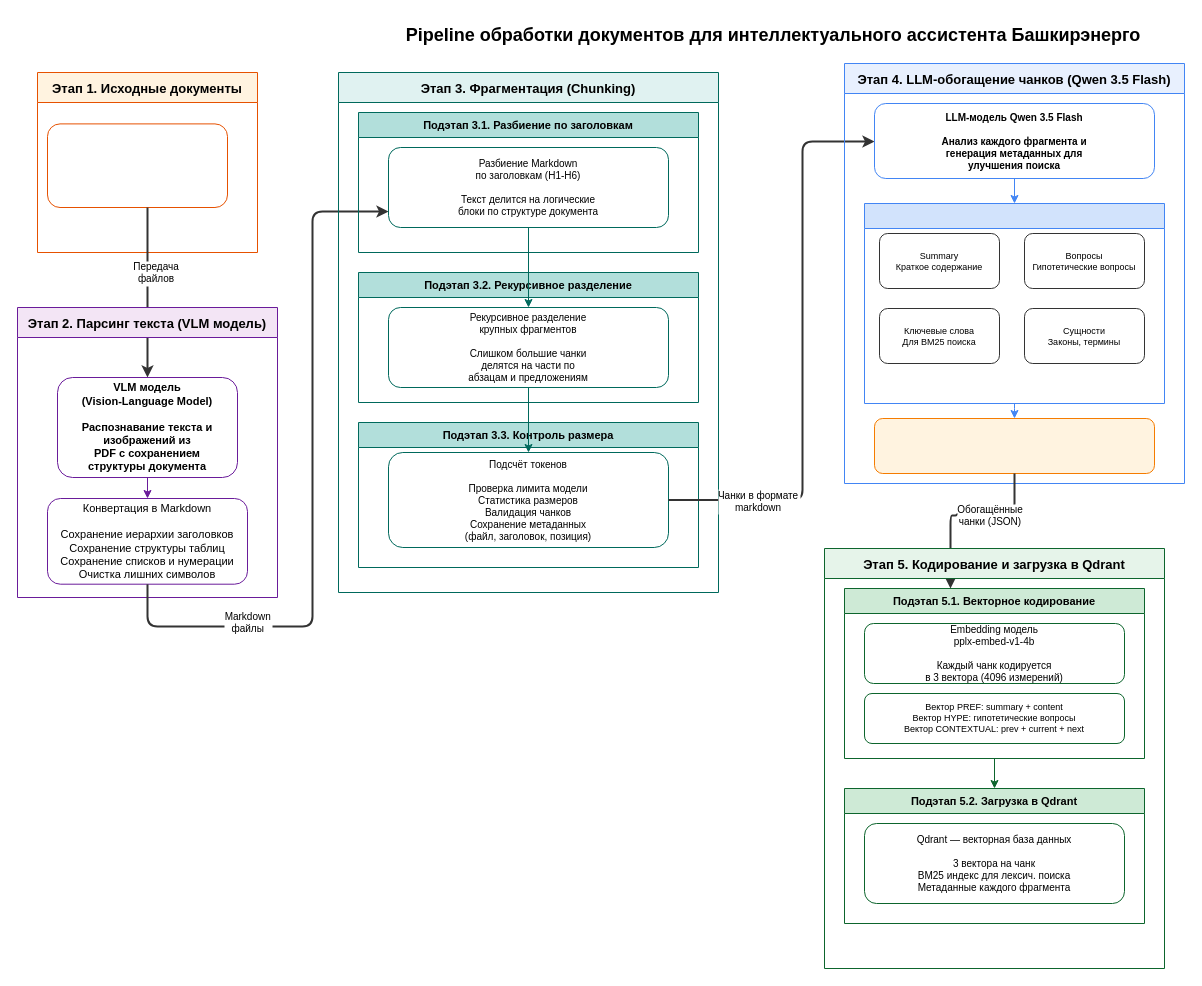
This 1202x986 diagram has some shape labels left out. The shapes that lost their labels are listed below. From the top down, each one's centre as x and y in pixels, then its label:
At point 137,165: "Нормативные документы Формат: PDF Количество: 22 документа".
At point 1014,446: "Восстановление JSON Исправление ошибок формата после LLM".
